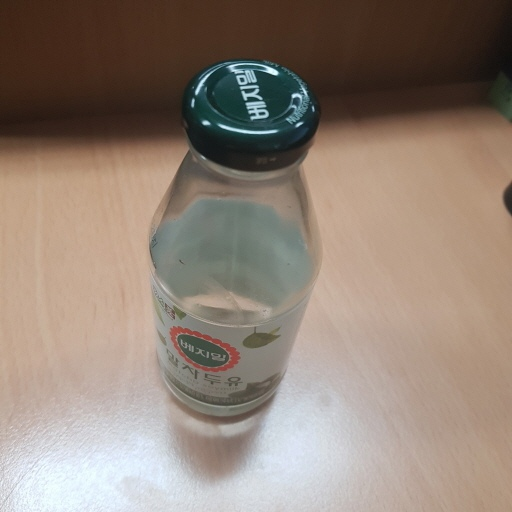Glass_4: (136, 59, 333, 434)
